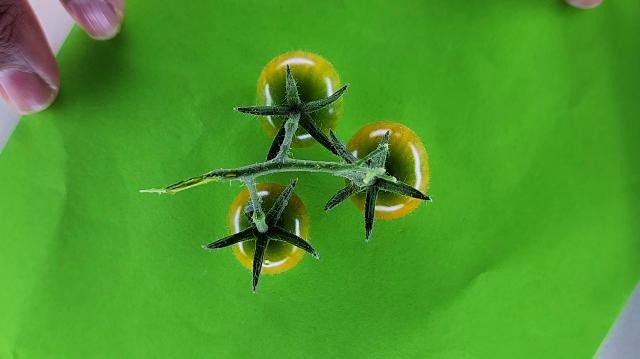Fully Grown: (256, 50, 345, 147), (343, 121, 431, 219), (227, 183, 309, 274)
